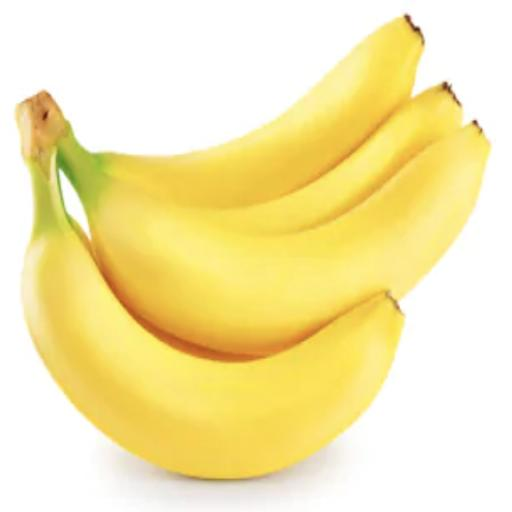banana: (23, 151, 403, 479), (66, 124, 489, 354), (88, 17, 423, 208), (188, 83, 462, 234), (207, 83, 462, 234), (132, 314, 256, 362)
